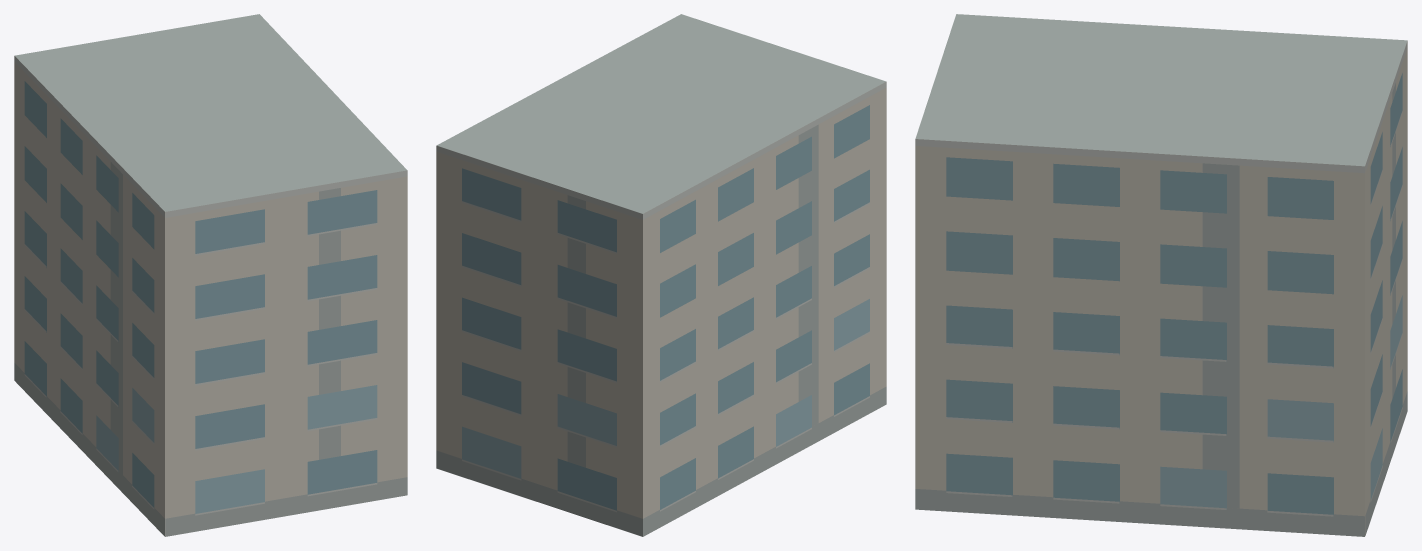
File: survey-upis-32888453.glb
The picture shows the model from 3 angles, left to right: view 1: azimuth 30°, elevation 25°; view 2: azimuth 150°, elevation 25°; view 3: azimuth 270°, elevation 25°; orthographic projection. The views are drawn at different scales.
Parts seen in each view (by area): view 1: survey-upis-32888453.tmp; view 2: survey-upis-32888453.tmp; view 3: survey-upis-32888453.tmp.
Boxes of the visible parts, box(x1,y1,x2,y2) form: survey-upis-32888453.tmp: box(14, 14, 407, 536); survey-upis-32888453.tmp: box(436, 14, 886, 536); survey-upis-32888453.tmp: box(915, 14, 1407, 536).
Size of the model in its own units: 11.56 by 13.1 by 15.78.
